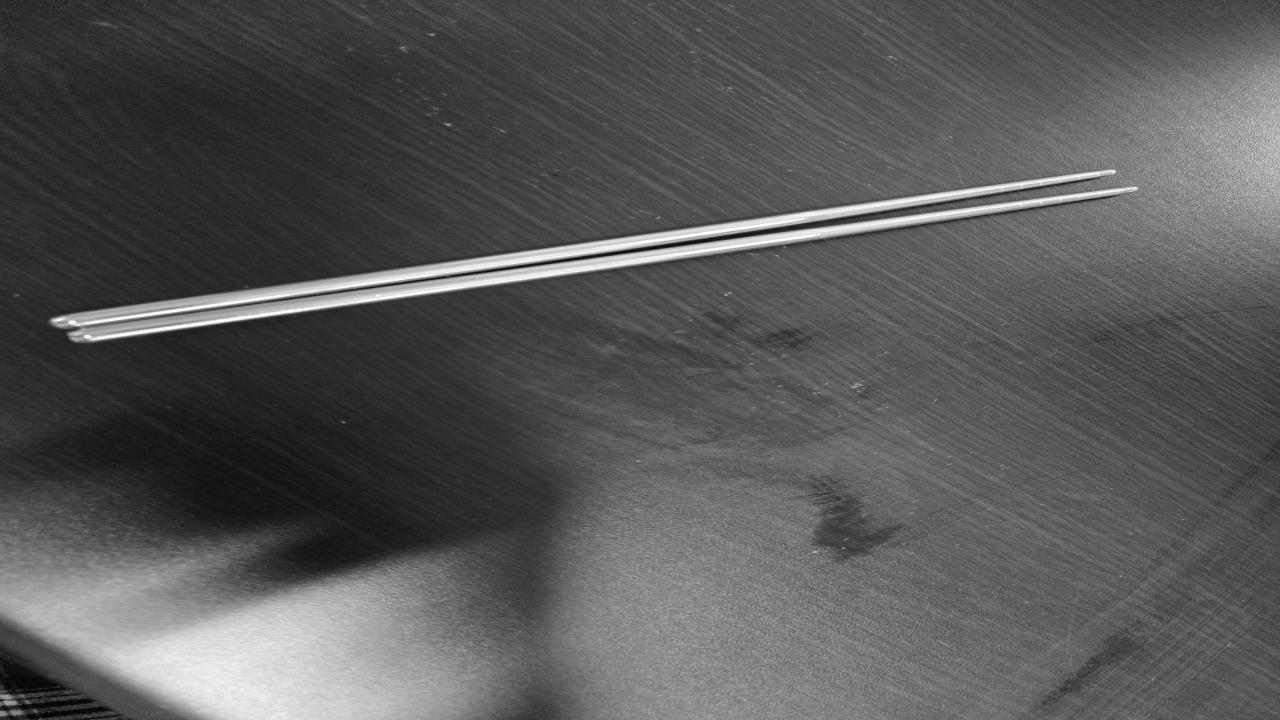chopstick: (38, 164, 1143, 351)
